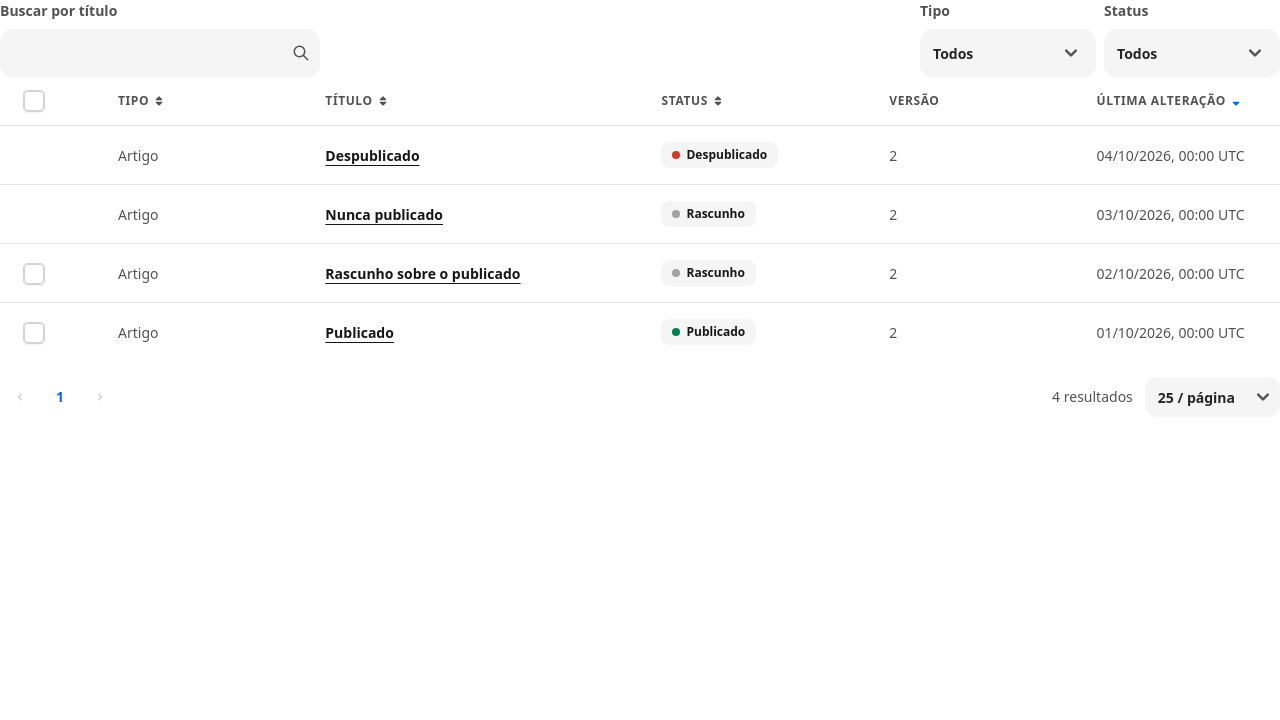
it: despublicar em massa (#495) › Cancelar não despublica
Click the checkbox named "Selecionar Publicado".
click(34, 333)  # box x1=24 y1=323 x2=44 y2=343
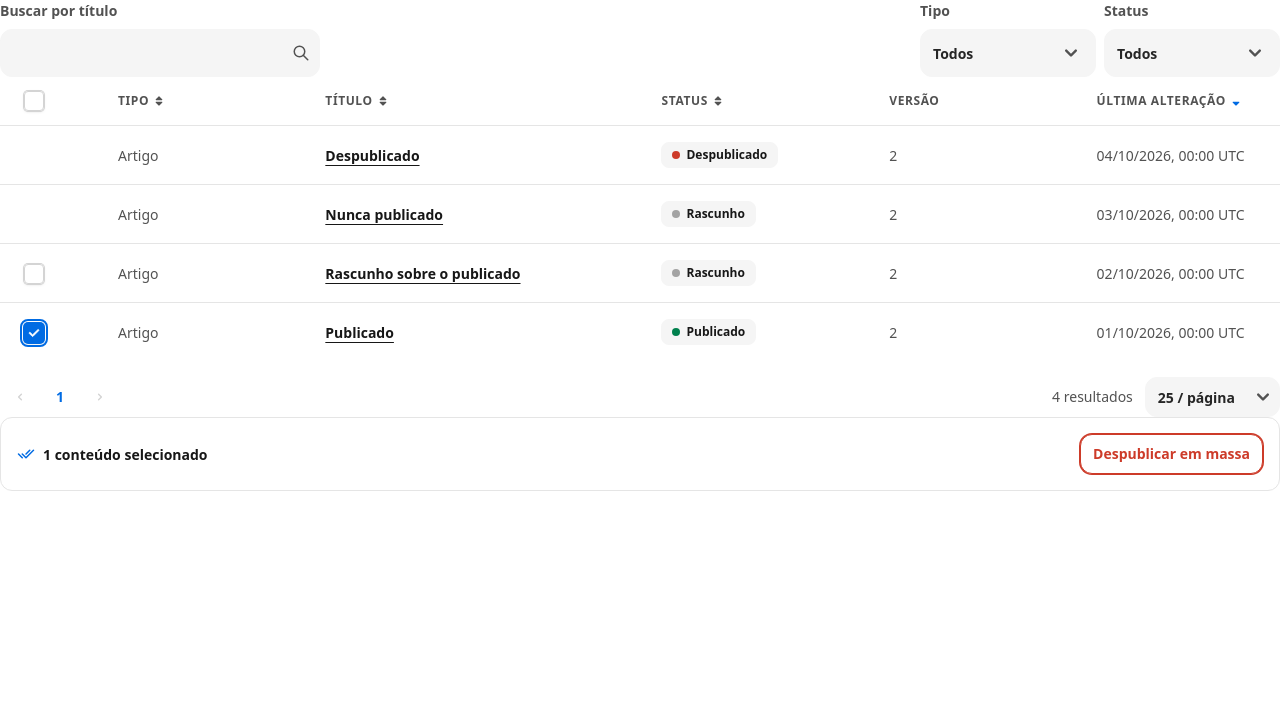
Click the button "Despublicar em massa".
click(1172, 454)  # box x1=1080 y1=434 x2=1263 y2=474
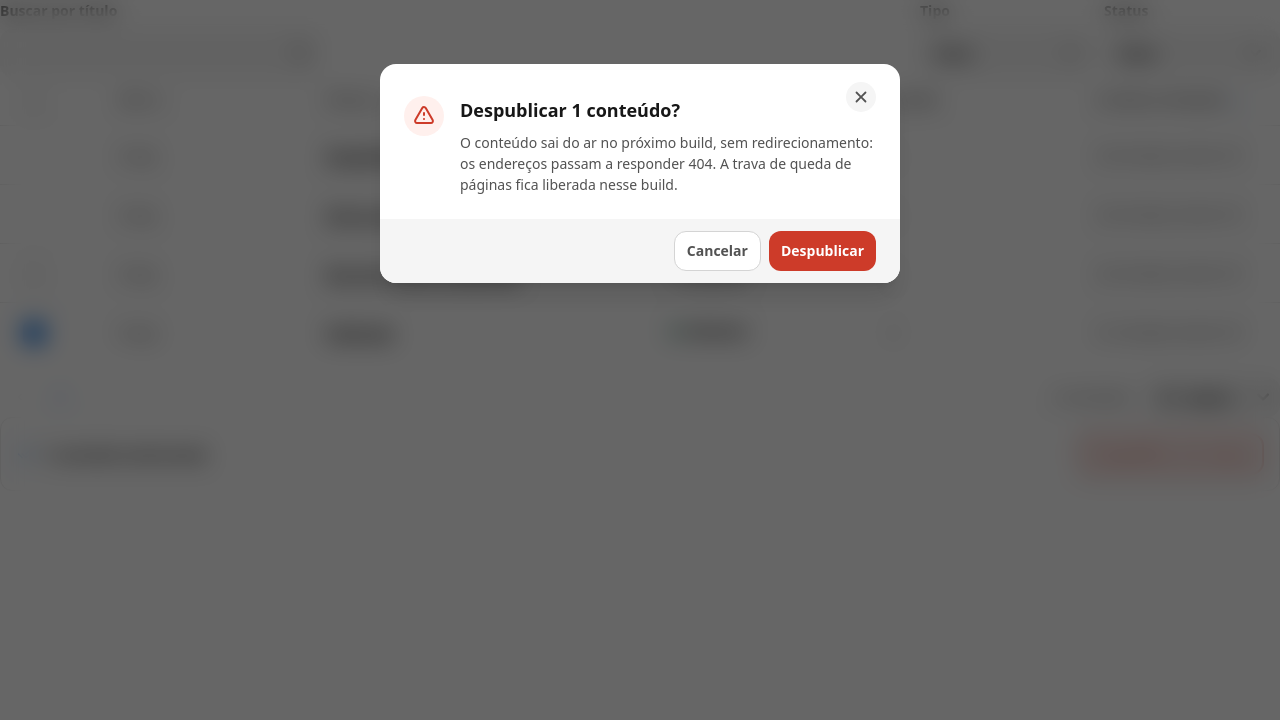
Click the button "Cancelar".
click(717, 251)  # box x1=674 y1=231 x2=761 y2=271
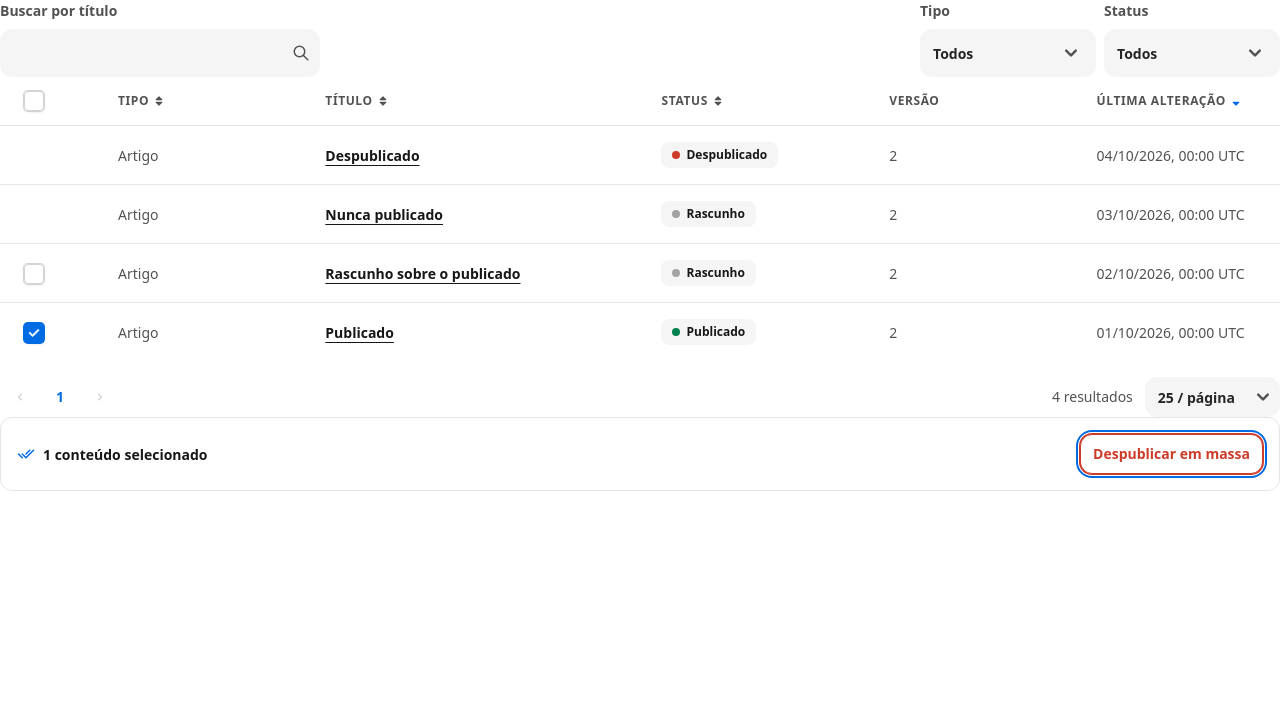
Expected: the dialog is gone
